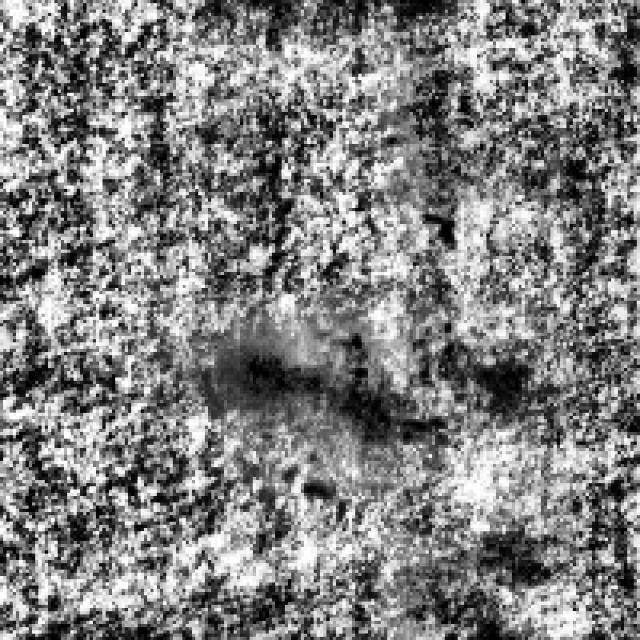Scratches: (211, 326, 426, 442)
